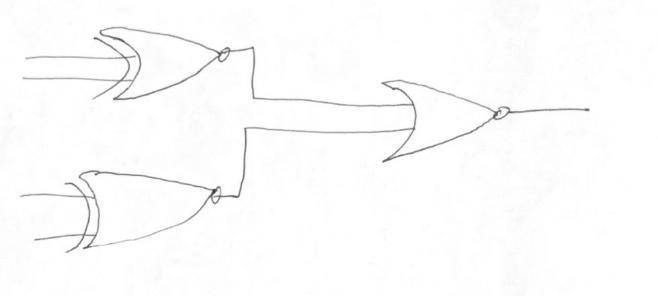NOR: (382, 62, 519, 161)
XNOR: (56, 157, 237, 249), (95, 18, 238, 110)
